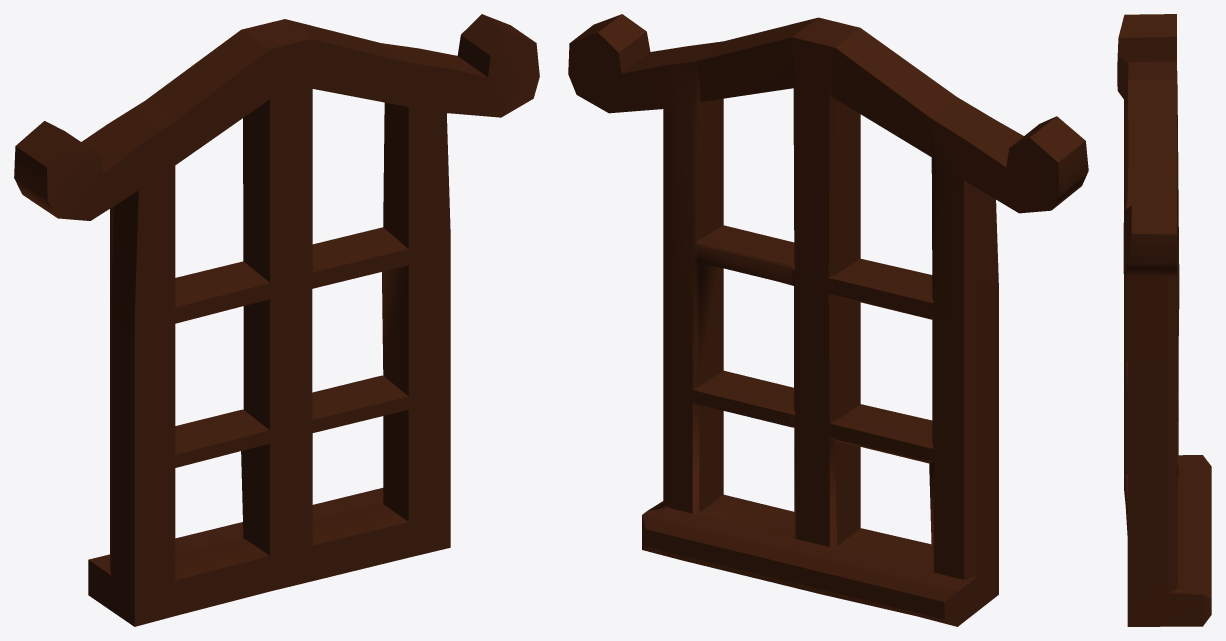
The model's file is Saloon_016_SmallWindow.fbx.
3 views of the same model, side by side, from view 1: azimuth 30°, elevation 25°; view 2: azimuth 150°, elevation 25°; view 3: azimuth 270°, elevation 25° (orthographic). The views are drawn at different scales.
Visible parts, largest first — view 1: Saloon_016_SmallWindow2; view 2: Saloon_016_SmallWindow2; view 3: Saloon_016_SmallWindow2.
Boxes of the visible parts, left/top/right/bottom form: Saloon_016_SmallWindow2: left=14, top=14, right=539, bottom=626; Saloon_016_SmallWindow2: left=568, top=14, right=1088, bottom=626; Saloon_016_SmallWindow2: left=1117, top=14, right=1211, bottom=626.
Bounding box in the file's own units: 254 × 264 × 46.43.
